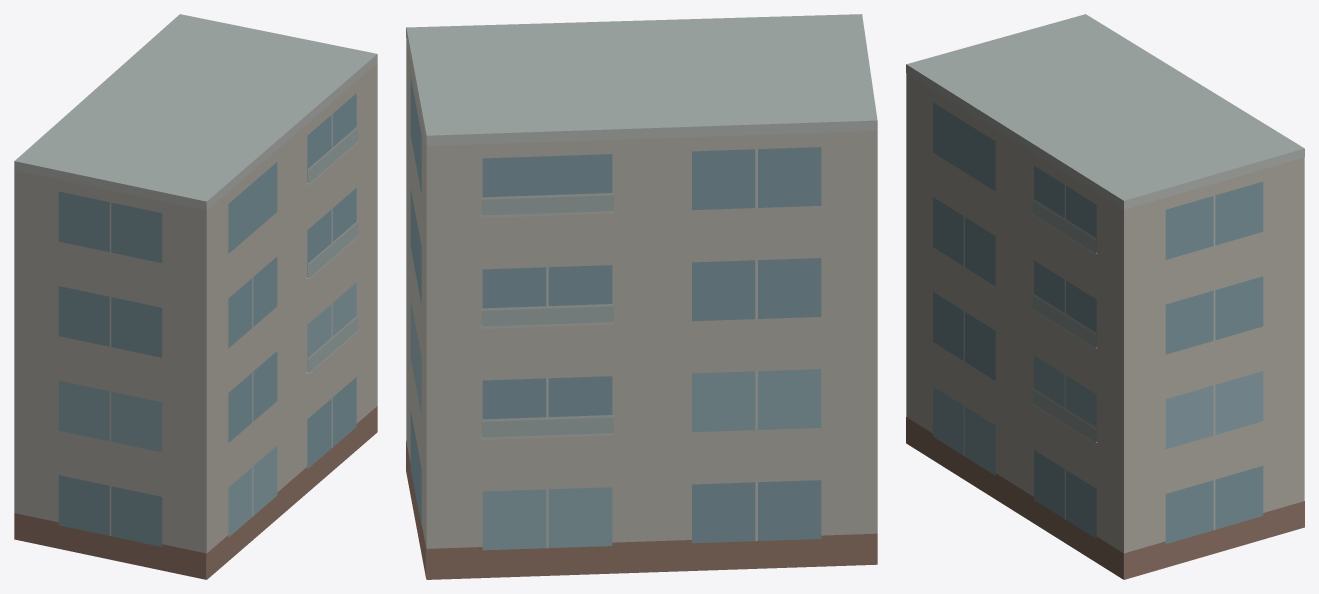
The model's file is survey-upis-32899580.glb.
The picture shows the model from 3 angles, left to right: view 1: azimuth 30°, elevation 25°; view 2: azimuth 150°, elevation 25°; view 3: azimuth 270°, elevation 25°; orthographic projection. The views are drawn at different scales.
Visible parts, largest first — view 1: survey-upis-32899580.tmp; view 2: survey-upis-32899580.tmp; view 3: survey-upis-32899580.tmp.
Boxes of the visible parts, box(x1,y1,x2,y2) form: survey-upis-32899580.tmp: box(14, 14, 377, 579); survey-upis-32899580.tmp: box(406, 14, 877, 579); survey-upis-32899580.tmp: box(906, 14, 1304, 579).
Bounding box in the file's own units: 11.01 × 10.4 × 9.92.
